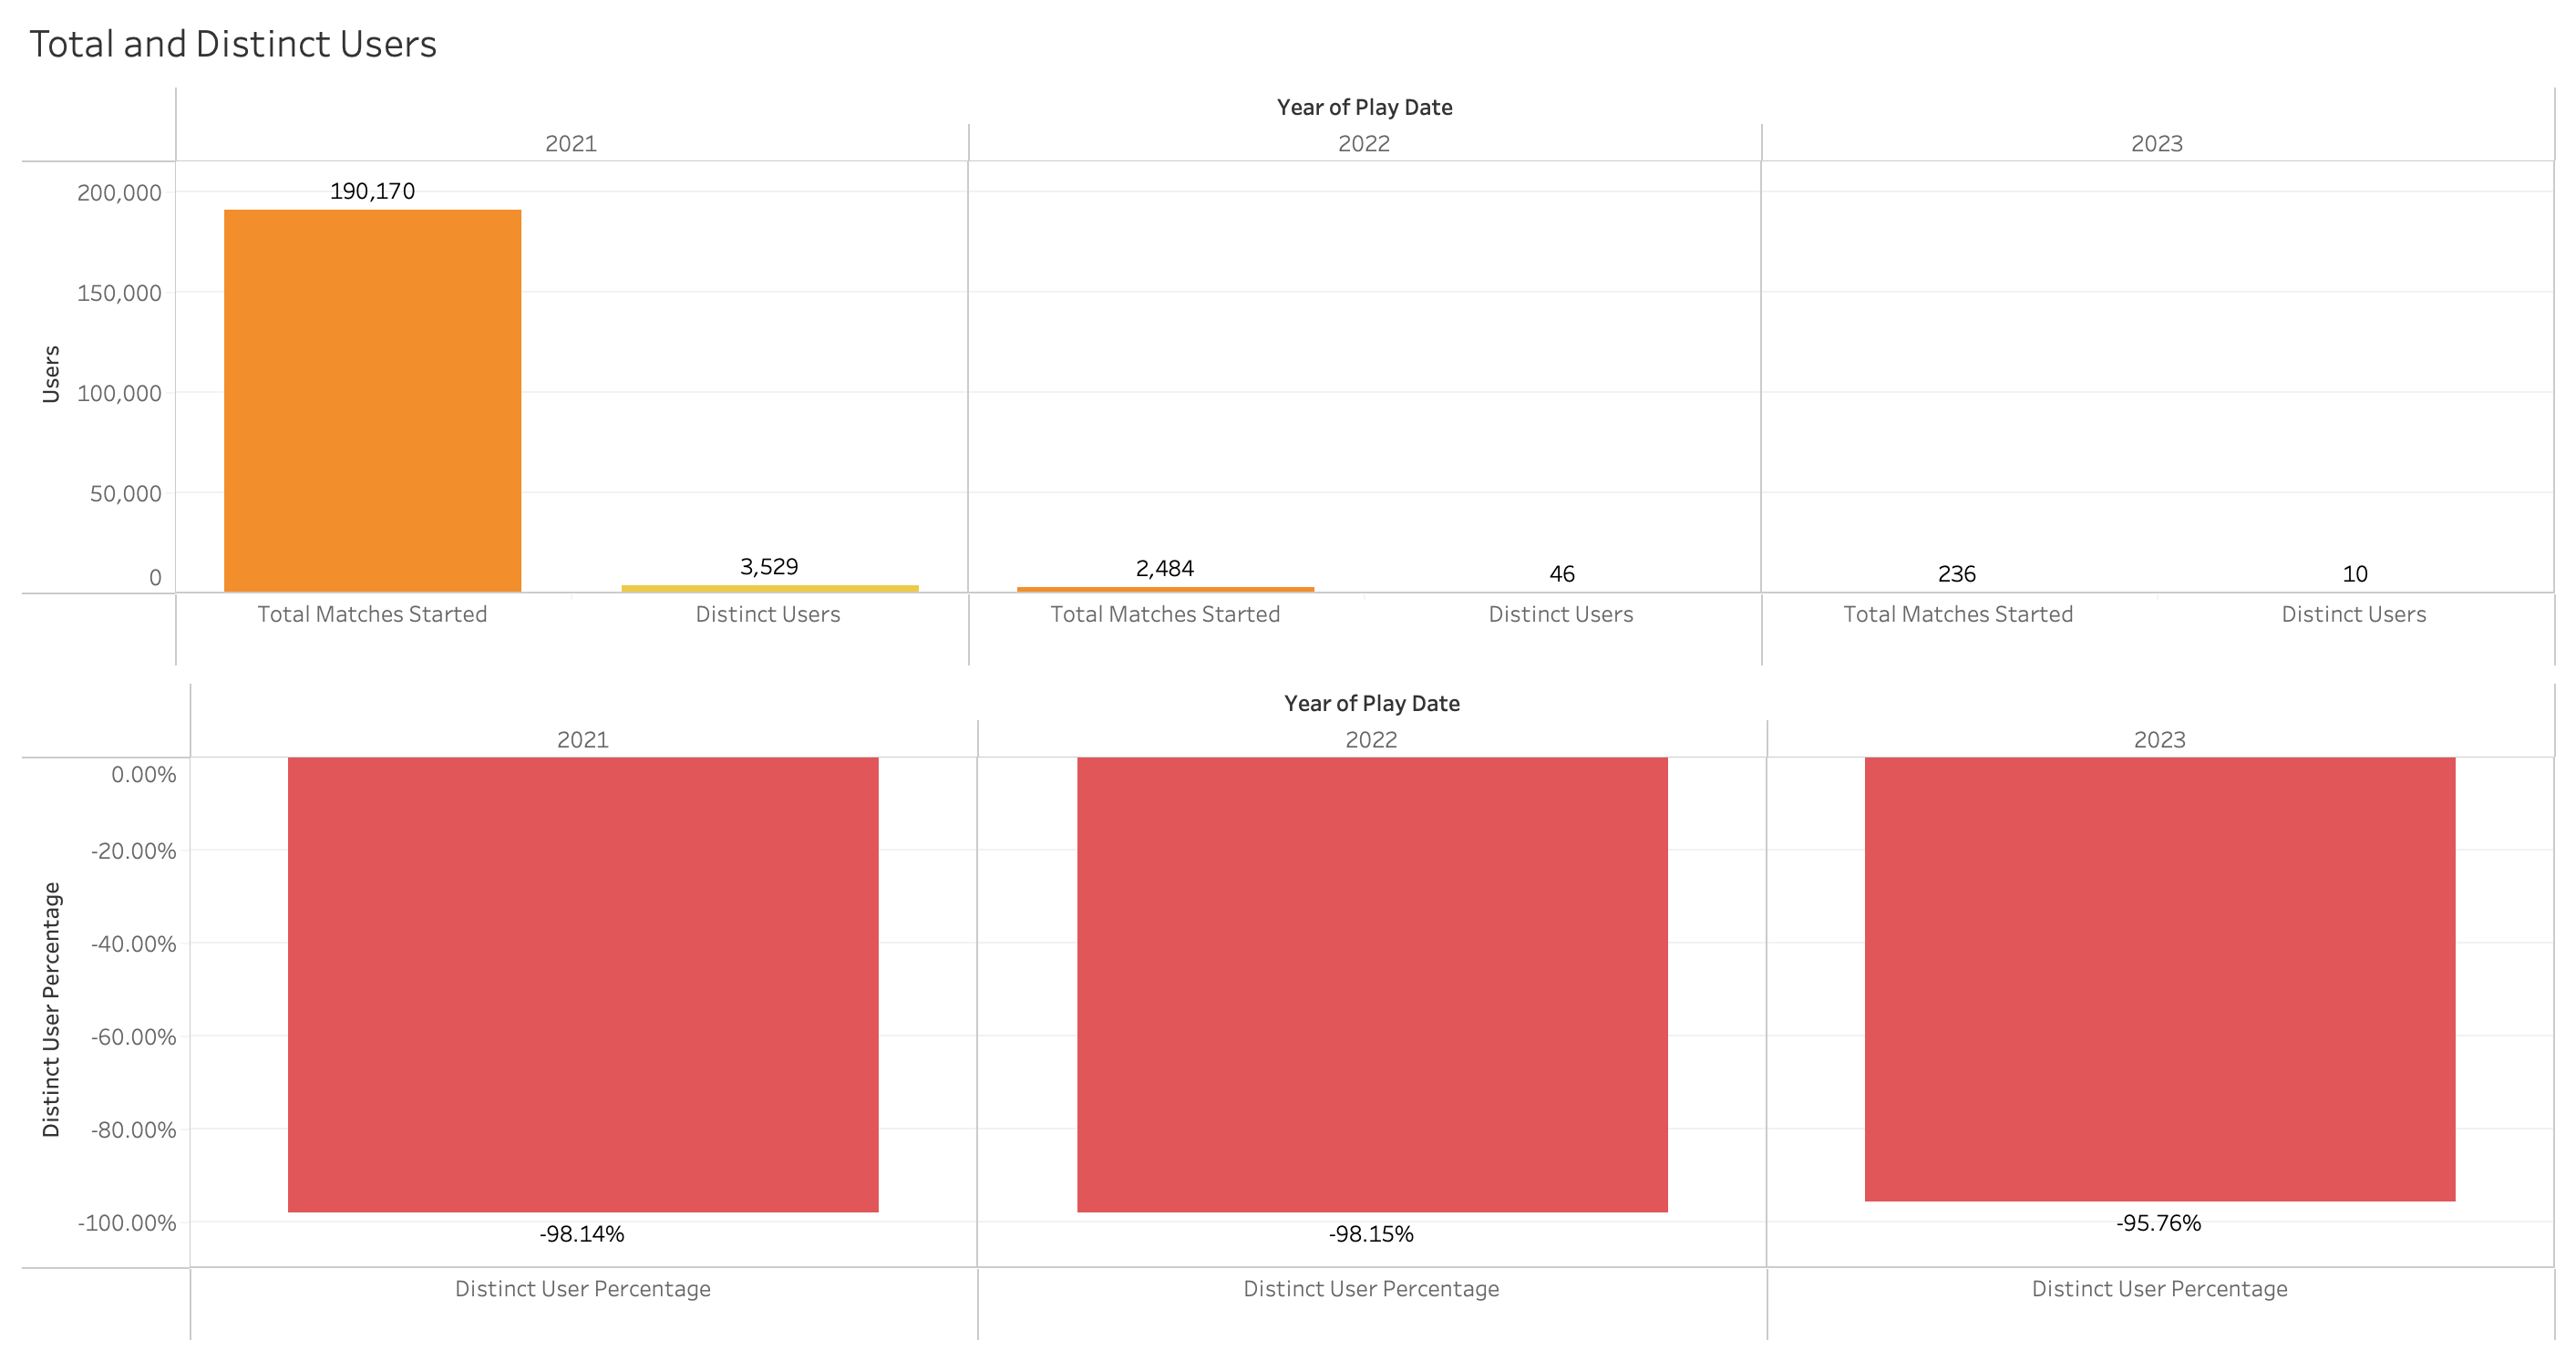

What the dashboard file says about the page in this screenshot:
{"tool":"tableau","page":{"name":"Total Users to Distinct Users","canvas":[1000,1000],"units":"permille","ordinal":3},"visuals":[{"type":"worksheet","title":"Total and Distinct Users","mark":"Bar","cols":["PLAY_DATE"],"box":[5.7,10.6,988.7,489.4]},{"type":"worksheet","title":"% of Total Users drop off","mark":"Bar","rows":["Calculation_2332864608880263171"],"cols":["PLAY_DATE"],"box":[5.7,500,988.7,489.4]}]}

Visuals, with their boxes on the dashboard's canvas, which has no fixed pixel size, in thousandths of its width and height (x1, y1, x2, y2). These are canvas units, not pixel positions in the 2576x1351 screenshot, which may show the page scaled, cropped or inside an application window:
"Total and Distinct Users" worksheet (Bar marks): pyautogui.locateOnScreen(6, 11, 994, 500)
"% of Total Users drop off" worksheet (Bar marks): pyautogui.locateOnScreen(6, 500, 994, 989)
